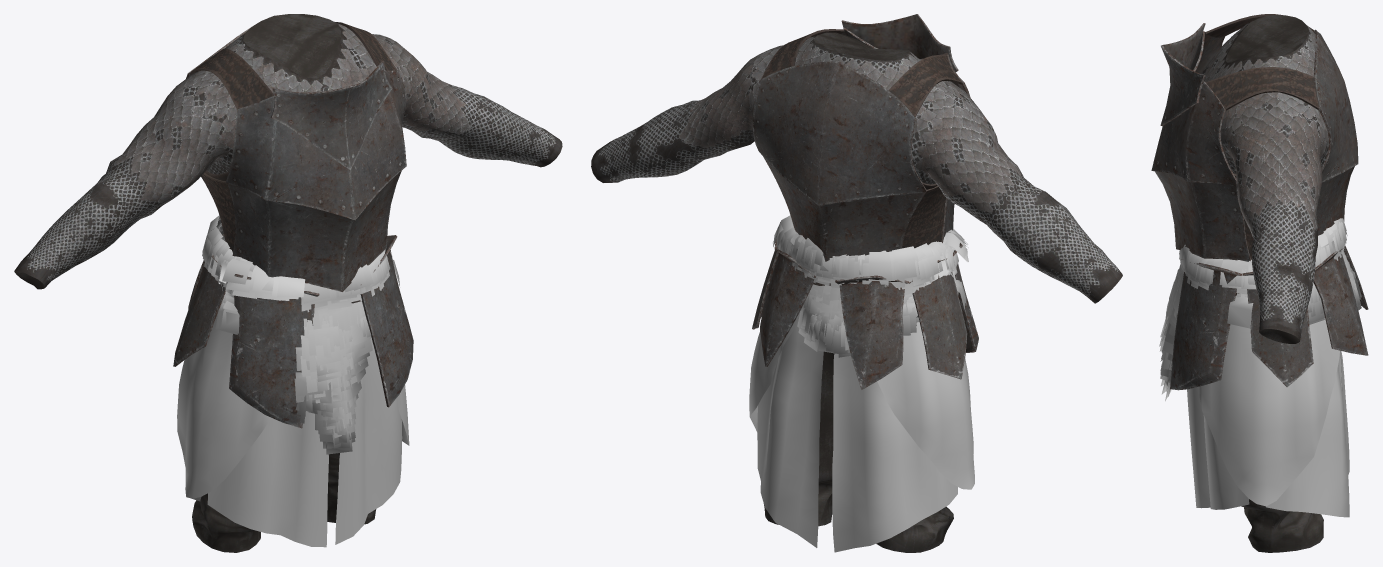
The model's file is sk_gb_uruk_chest_elite_d.fbx.
3 renders of one model, left to right at view 1: azimuth 30°, elevation 25°; view 2: azimuth 150°, elevation 25°; view 3: azimuth 270°, elevation 25°, orthographic. The views are drawn at different scales.
Parts seen in each view (by area): view 1: sk_gb_uruk_chest_elite_d.base.0, sk_gb_uruk_chest_elite_d.base.1, sk_gb_uruk_chest_elite_d.skirt.1, sk_gb_uruk_chest_elite_d.skirt.2, sk_gb_uruk_chest_elite_d.base.3; view 2: sk_gb_uruk_chest_elite_d.base.0, sk_gb_uruk_chest_elite_d.skirt.1, sk_gb_uruk_chest_elite_d.base.1, sk_gb_uruk_chest_elite_d.base.3, sk_gb_uruk_chest_elite_d.skirt.2; view 3: sk_gb_uruk_chest_elite_d.base.0, sk_gb_uruk_chest_elite_d.skirt.1, sk_gb_uruk_chest_elite_d.base.1, sk_gb_uruk_chest_elite_d.base.3, sk_gb_uruk_chest_elite_d.skirt.2.
Part boxes in pixels (x1,y1,x2,y2): sk_gb_uruk_chest_elite_d.base.0: [14, 14, 562, 552]; sk_gb_uruk_chest_elite_d.base.1: [186, 22, 406, 291]; sk_gb_uruk_chest_elite_d.skirt.1: [177, 312, 409, 547]; sk_gb_uruk_chest_elite_d.skirt.2: [202, 215, 399, 454]; sk_gb_uruk_chest_elite_d.base.3: [173, 235, 413, 428]; sk_gb_uruk_chest_elite_d.base.0: [591, 32, 1122, 552]; sk_gb_uruk_chest_elite_d.skirt.1: [749, 311, 974, 552]; sk_gb_uruk_chest_elite_d.base.1: [753, 14, 970, 261]; sk_gb_uruk_chest_elite_d.base.3: [752, 222, 978, 389]; sk_gb_uruk_chest_elite_d.skirt.2: [773, 215, 968, 357]; sk_gb_uruk_chest_elite_d.base.0: [1201, 15, 1328, 552]; sk_gb_uruk_chest_elite_d.skirt.1: [1187, 318, 1349, 517]; sk_gb_uruk_chest_elite_d.base.1: [1151, 14, 1358, 261]; sk_gb_uruk_chest_elite_d.base.3: [1170, 245, 1368, 390]; sk_gb_uruk_chest_elite_d.skirt.2: [1159, 218, 1361, 401].
Bounding box in the file's own units: 1.35 × 0.4857 × 1.2.
